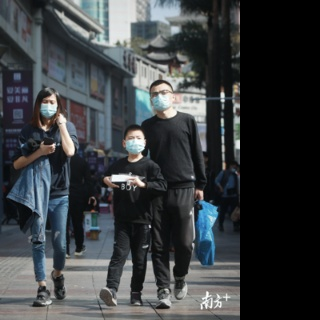with_mask: (150, 89, 173, 112), (125, 135, 145, 155), (39, 99, 57, 119)
